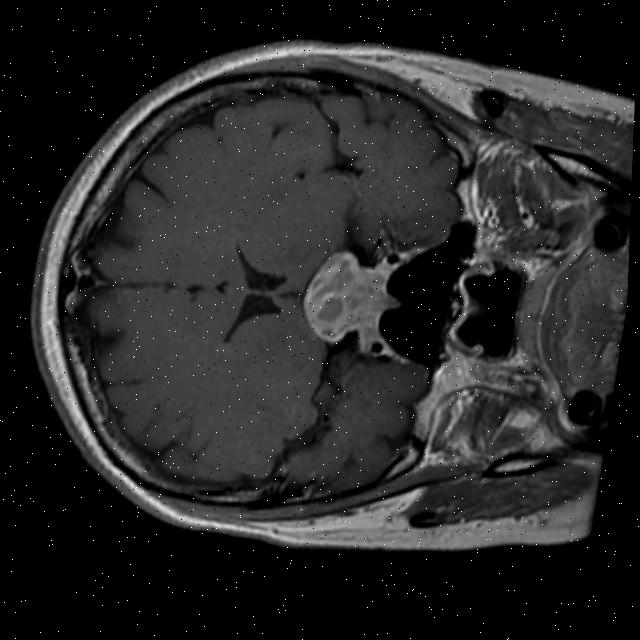Pituitary: (295, 241, 400, 351)
